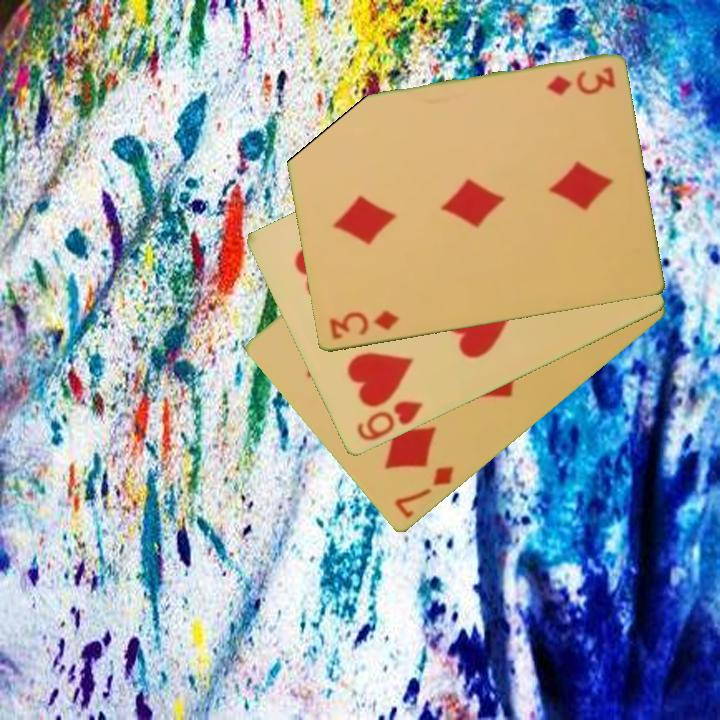3d: (325, 307, 402, 343), (542, 63, 618, 99)
6h: (353, 397, 426, 445)
7d: (391, 463, 457, 522)
